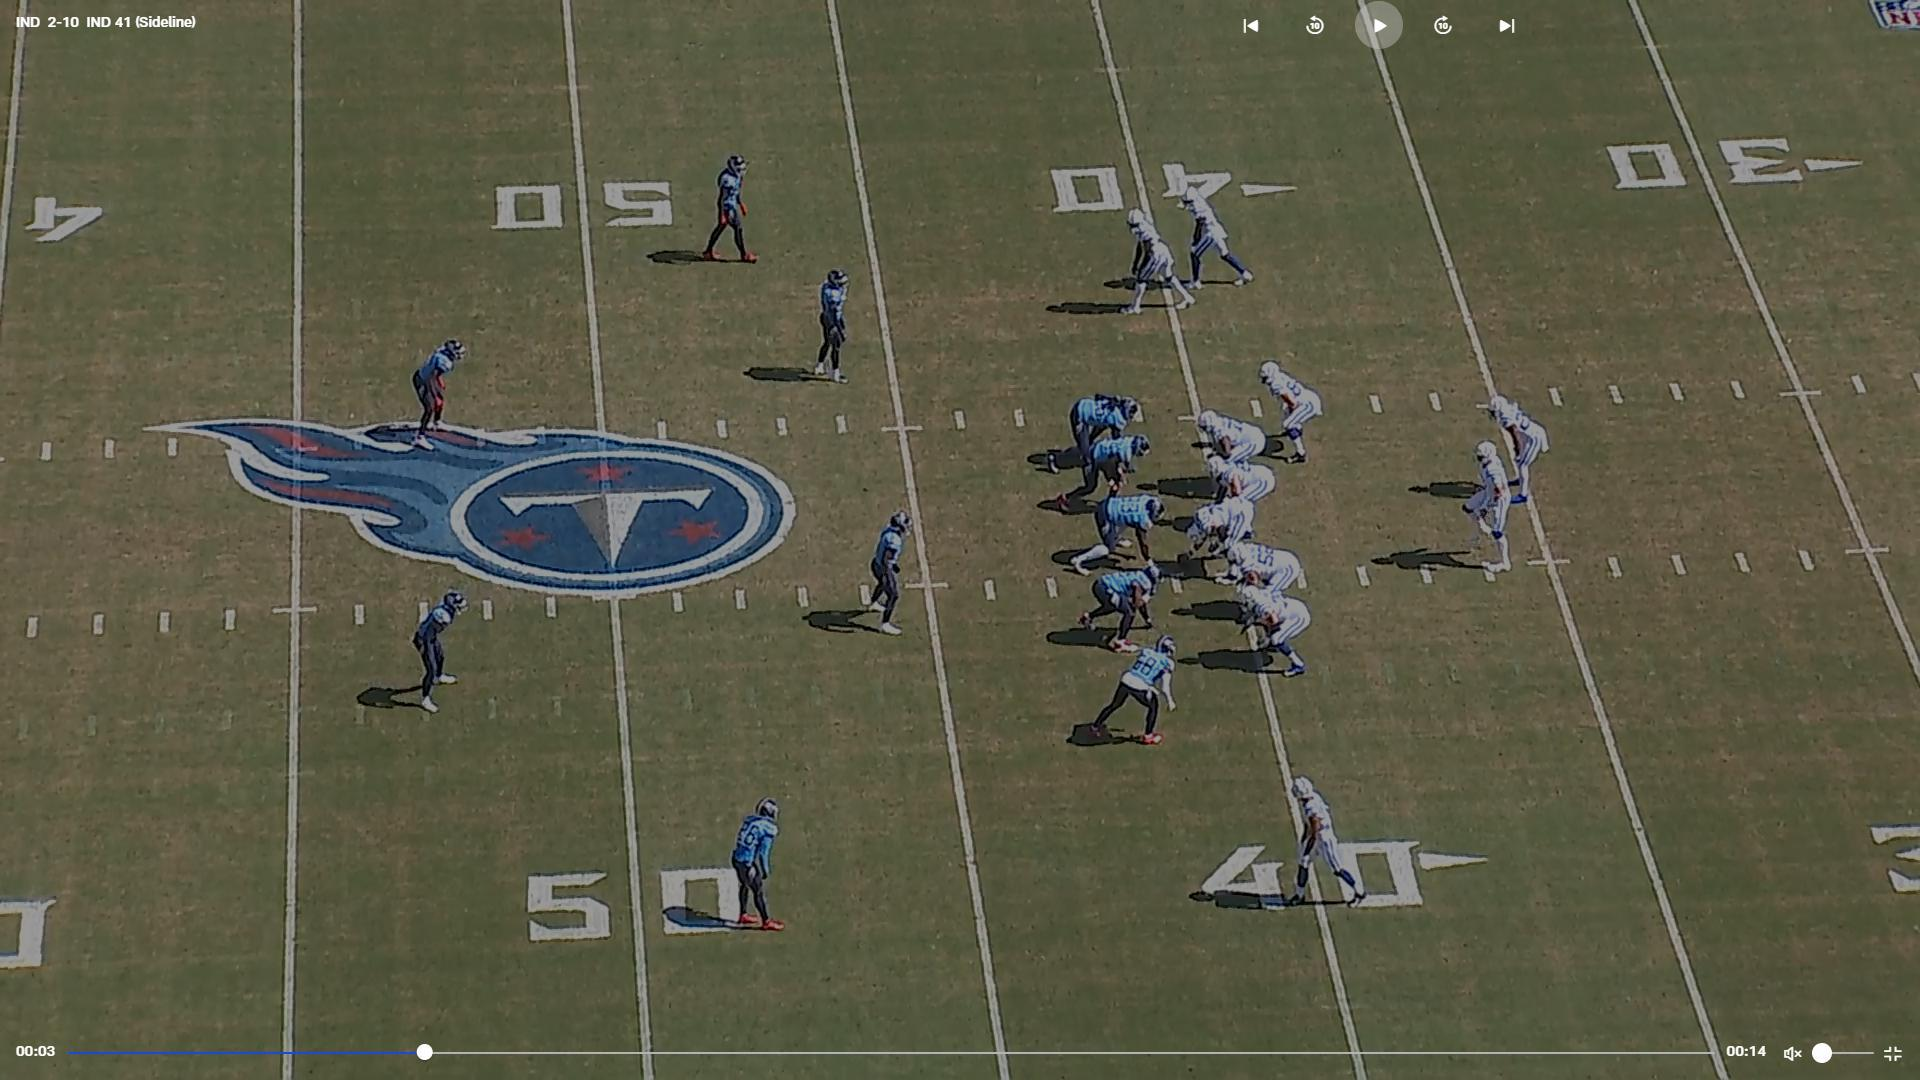center: (1185, 501, 1247, 560)
db: (411, 596, 462, 715), (742, 796, 781, 913), (712, 149, 749, 265), (419, 340, 455, 446), (825, 264, 855, 382)
lb: (1108, 633, 1174, 732), (876, 506, 916, 624), (1085, 433, 1162, 492)
qb: (1472, 444, 1505, 567)
skill: (1284, 770, 1348, 899), (1267, 364, 1320, 467), (1127, 208, 1178, 309), (1188, 186, 1241, 273), (1490, 392, 1549, 458), (1247, 603, 1303, 673)
